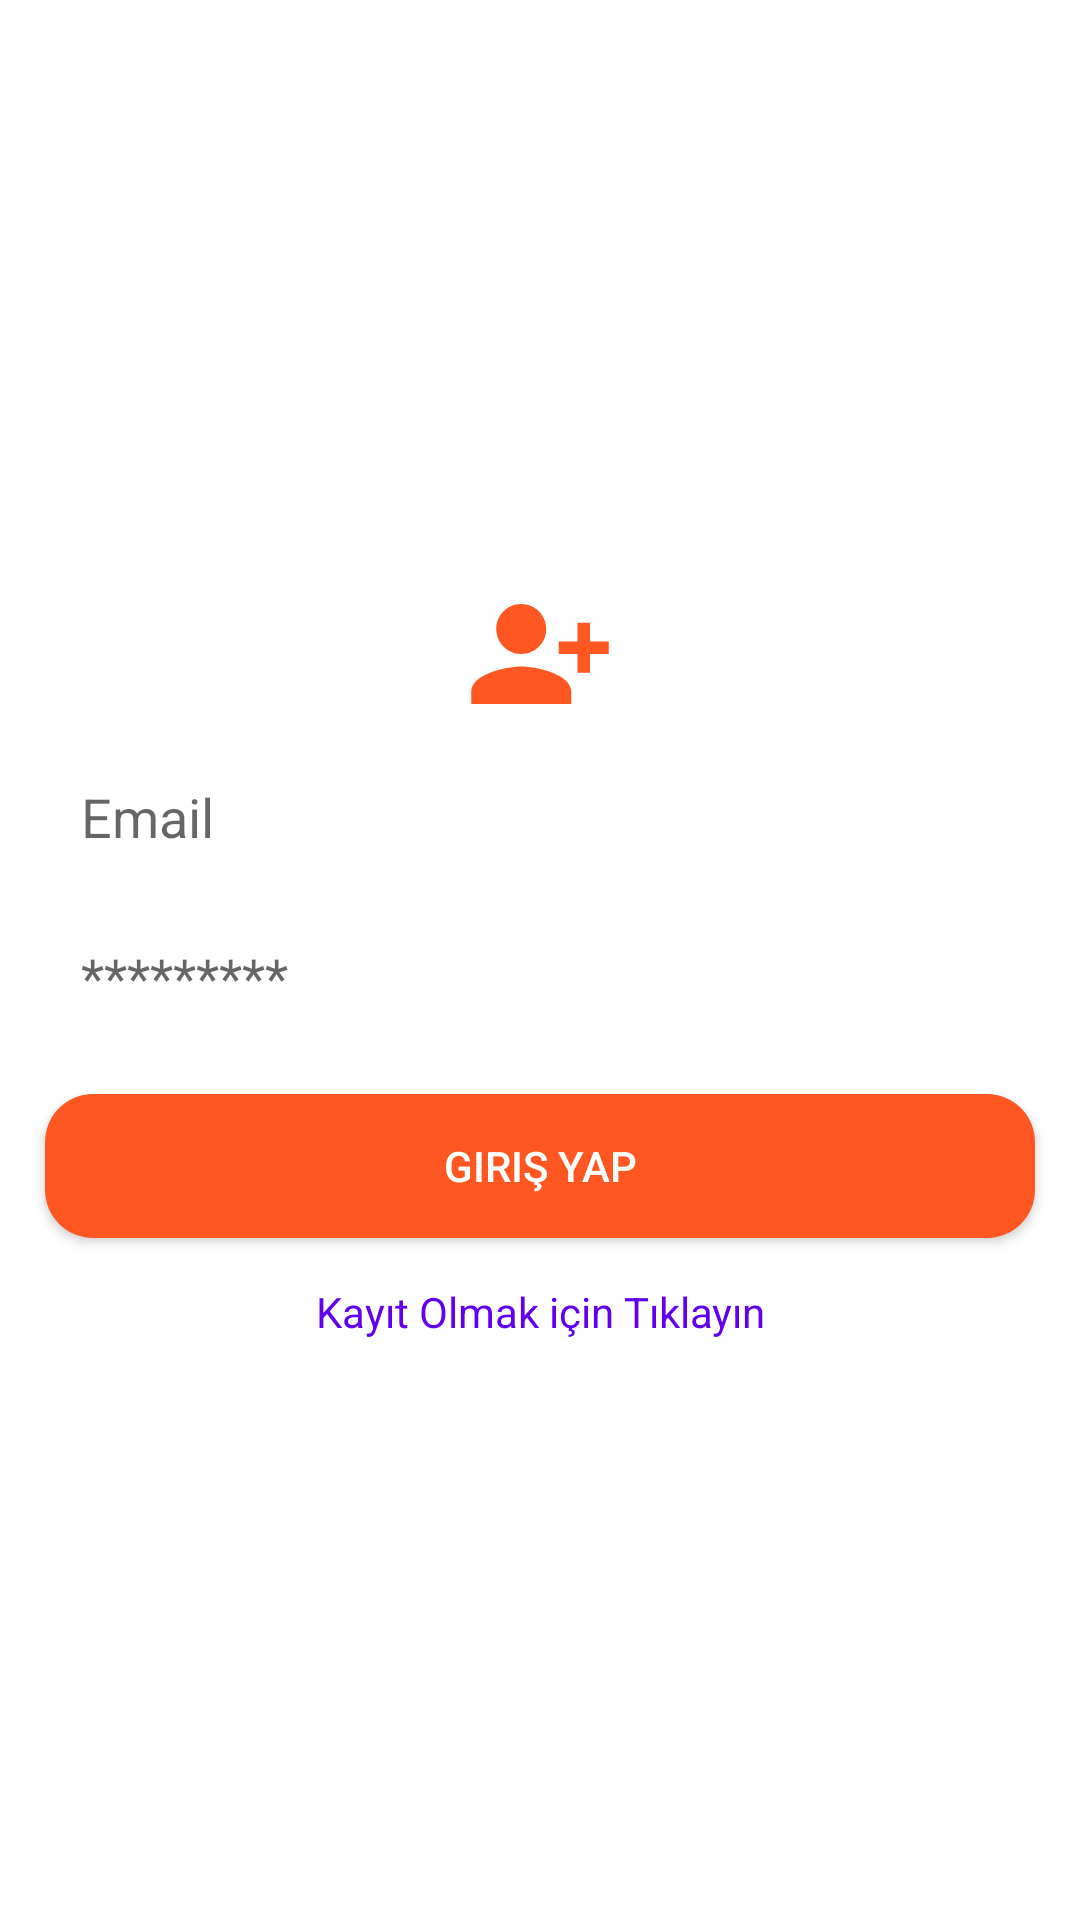

Locate icon controls on the screen. Image size 1080w x 1920h, boxes as (x1, y1, x2, y2).
person add: (471, 604, 609, 704)
